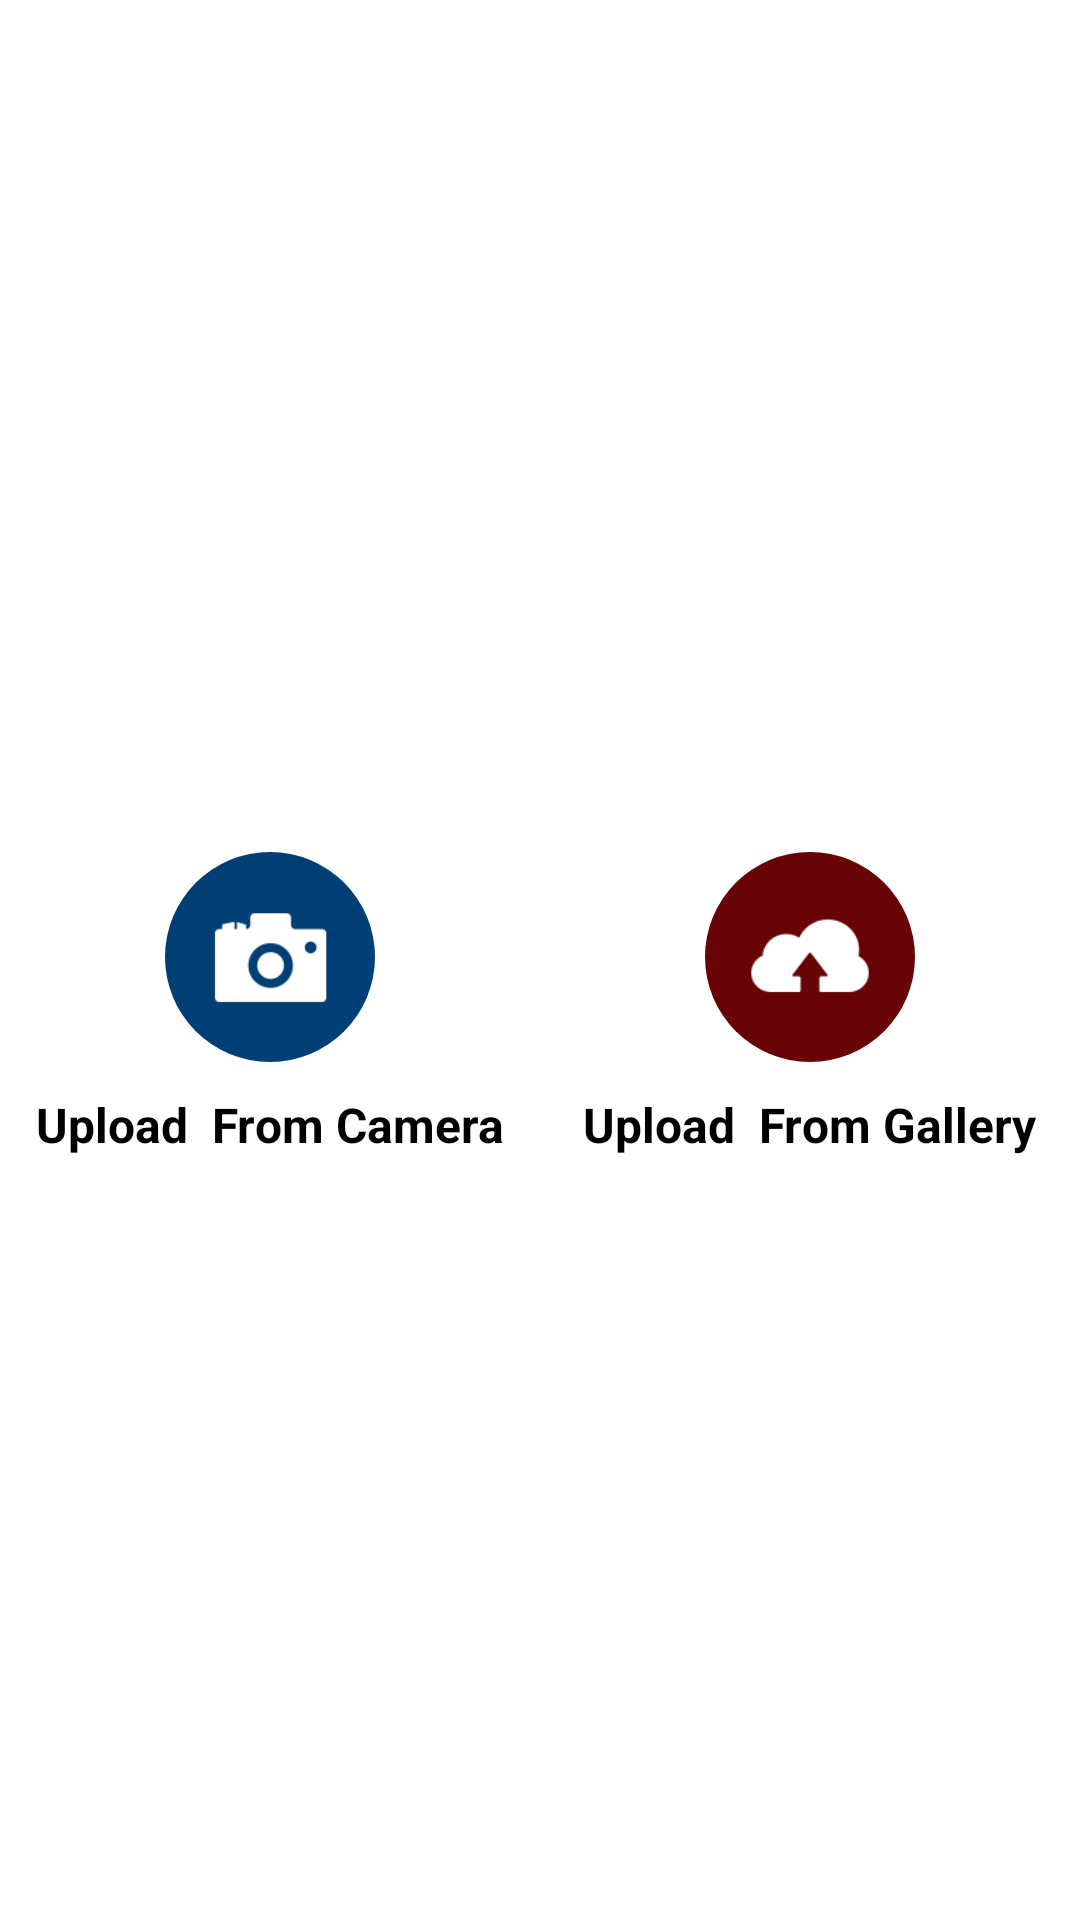

Icon click points for this 1080w x 1920h phone screenshot, format point (x, y):
cameras: point (270, 958)
uploading: point (810, 956)
